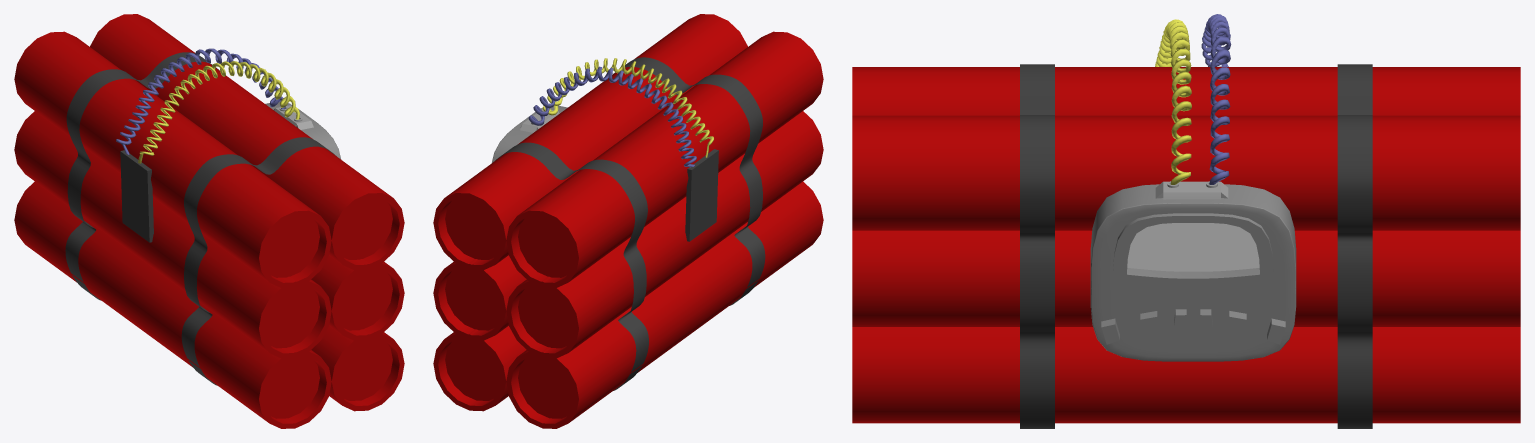
File: Bomba.fbx
3 views of the same model, side by side, from view 1: azimuth 30°, elevation 25°; view 2: azimuth 150°, elevation 25°; view 3: azimuth 270°, elevation 25° (orthographic). The views are drawn at different scales.
Visible parts, largest first — view 1: polySurface1; view 2: polySurface1; view 3: polySurface1.
Boxes of the visible parts, <box> form: polySurface1: <box>14,14,404,428</box>; polySurface1: <box>433,14,823,428</box>; polySurface1: <box>852,14,1520,428</box>.
Bounding box in the file's own units: 0.5023 × 0.7027 × 1.14.
